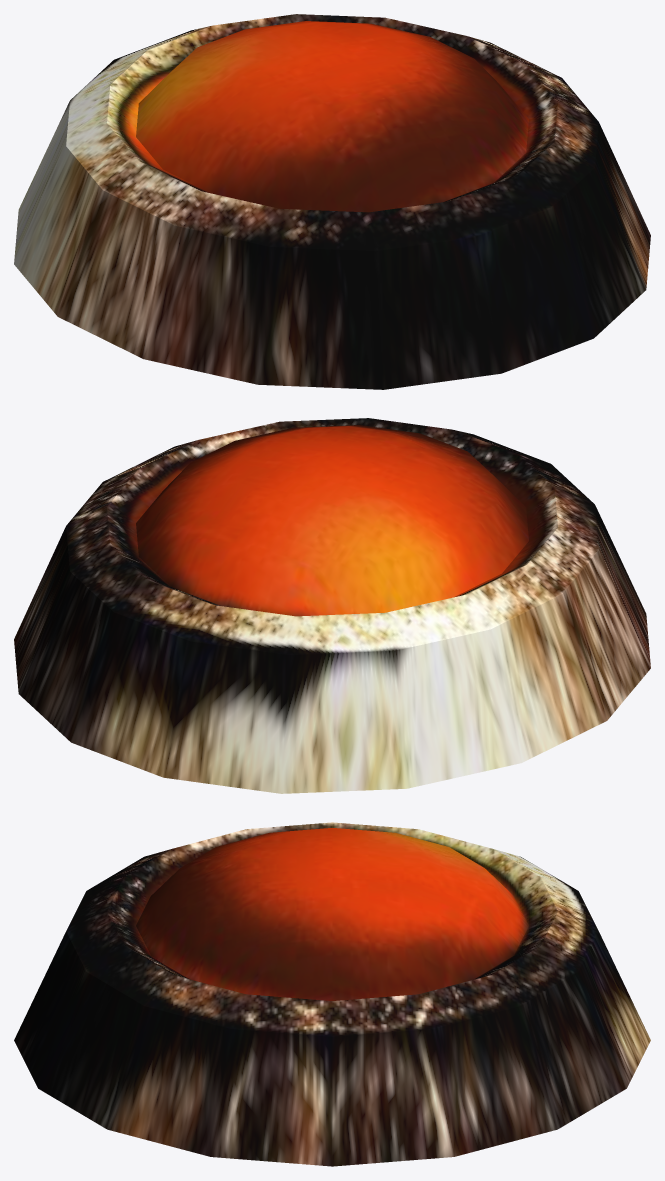
The model's file is button.fbx.
3 renders of one model, top to bottom at view 1: azimuth 30°, elevation 25°; view 2: azimuth 150°, elevation 25°; view 3: azimuth 270°, elevation 25°, orthographic. The views are drawn at different scales.
Parts seen in each view (by area): view 1: Cylinder; view 2: Cylinder; view 3: Cylinder.
Boxes of the visible parts, x1,y1,x2,y2 form: Cylinder: [14, 14, 650, 389]; Cylinder: [14, 418, 650, 793]; Cylinder: [14, 822, 650, 1166].
Size of the model in its own units: 3.59 by 1.21 by 3.83.
Materials: 1 (1 with a texture image).
